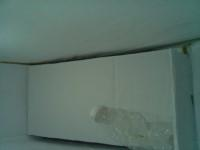bottle: (86, 101, 175, 149)
